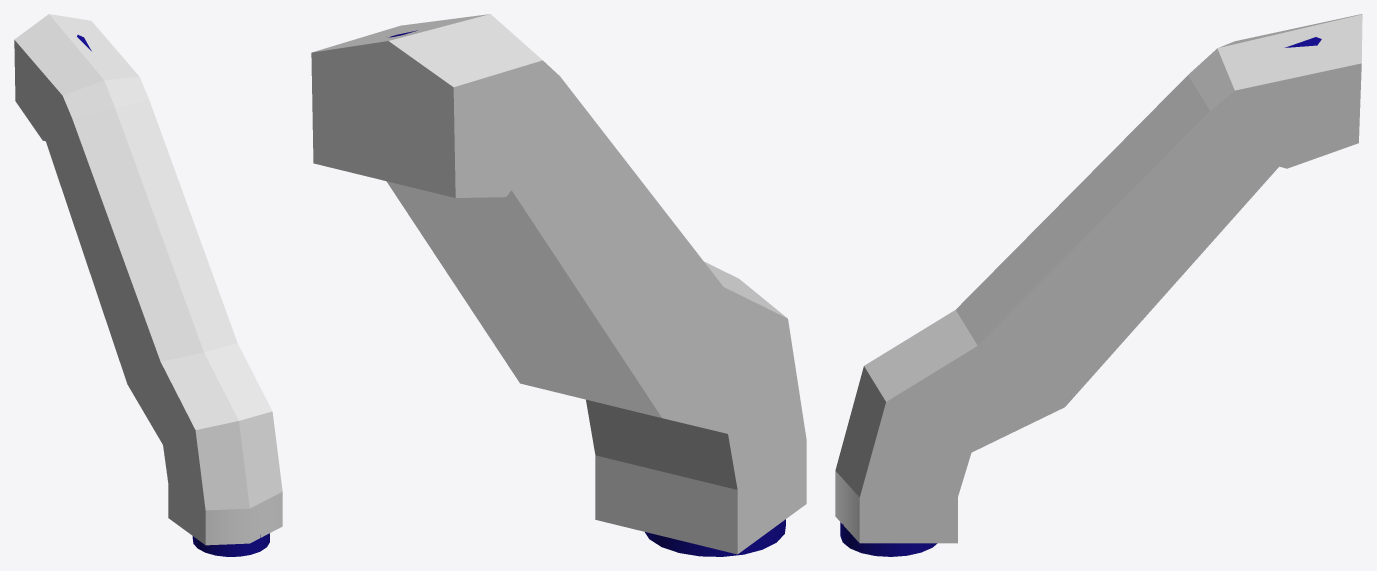
Rendered from SFM_Wall05_Pipe_B.FBX.
3 views of the same model, side by side, from view 1: azimuth 30°, elevation 25°; view 2: azimuth 150°, elevation 25°; view 3: azimuth 270°, elevation 25° (orthographic). The views are drawn at different scales.
Visible parts, largest first — view 1: SFM_Wall05_pipeB_Colider, SFM_Wall05_pipeB_LOD0; view 2: SFM_Wall05_pipeB_Colider, SFM_Wall05_pipeB_LOD0; view 3: SFM_Wall05_pipeB_Colider, SFM_Wall05_pipeB_LOD0.
Boxes of the visible parts, bbox=[...] form: SFM_Wall05_pipeB_Colider: bbox=[14, 14, 282, 545]; SFM_Wall05_pipeB_LOD0: bbox=[77, 35, 269, 556]; SFM_Wall05_pipeB_Colider: bbox=[311, 14, 806, 554]; SFM_Wall05_pipeB_LOD0: bbox=[389, 30, 785, 556]; SFM_Wall05_pipeB_Colider: bbox=[835, 14, 1362, 543]; SFM_Wall05_pipeB_LOD0: bbox=[840, 37, 1321, 556].
Size of what is drawn, in the model's own units: 62.11 by 305 by 280.
